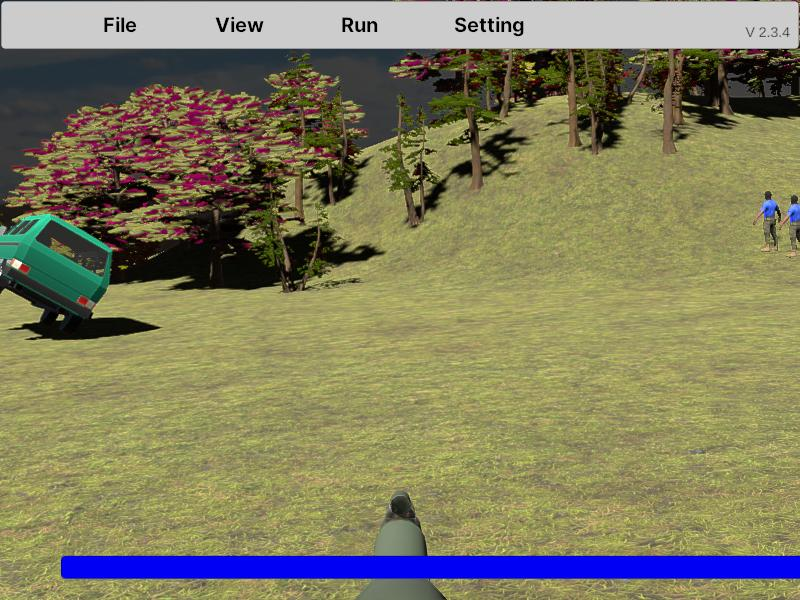Human: (753, 191, 782, 253), (780, 195, 800, 260)
car: (0, 214, 112, 336)
